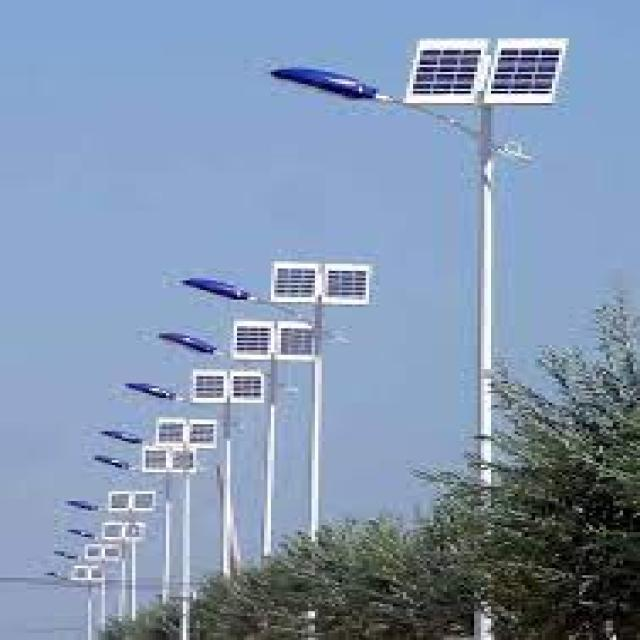Street Light: (267, 64, 504, 640), (180, 278, 325, 638), (118, 378, 240, 626), (159, 326, 237, 630)
